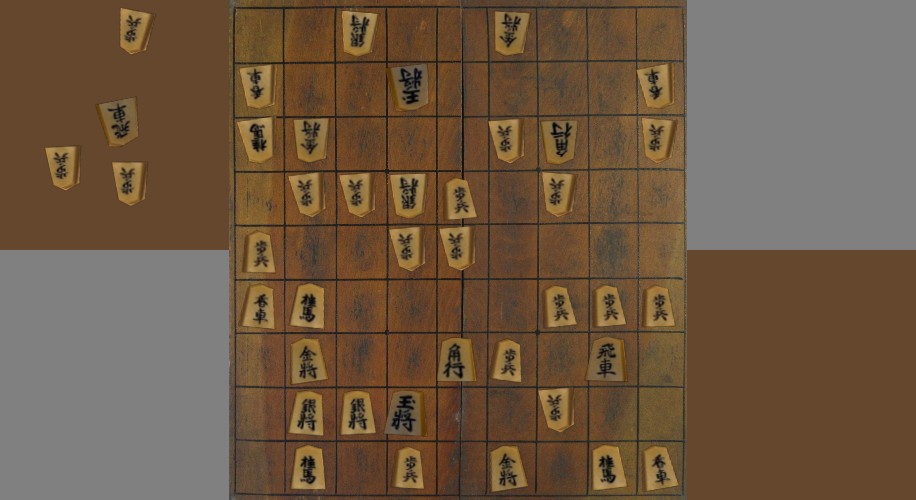A: (587, 338, 626, 381), (491, 447, 527, 492), (386, 393, 424, 435), (292, 339, 327, 384), (438, 339, 475, 381), (593, 446, 626, 490), (292, 446, 325, 489), (644, 447, 677, 490), (342, 391, 375, 433), (291, 285, 323, 328), (290, 392, 322, 435), (242, 285, 273, 328), (545, 286, 576, 327), (595, 286, 626, 326), (245, 232, 274, 273), (394, 448, 423, 489), (492, 340, 521, 381), (645, 286, 674, 326), (447, 180, 475, 219)
B: (388, 65, 427, 110), (494, 12, 530, 55), (391, 174, 426, 217), (238, 118, 272, 162), (344, 11, 377, 55), (638, 65, 672, 107), (290, 174, 323, 216), (240, 66, 273, 108), (341, 173, 373, 216), (441, 227, 473, 270), (295, 120, 328, 161), (490, 120, 522, 162), (544, 121, 576, 163), (391, 227, 422, 270), (544, 173, 575, 216), (541, 389, 572, 431), (645, 119, 675, 161)
D: (97, 98, 138, 146), (113, 162, 146, 205), (121, 9, 153, 53), (46, 147, 79, 189)
